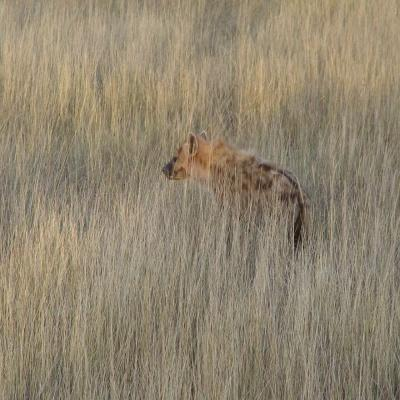hyenas: (144, 122, 318, 253)
